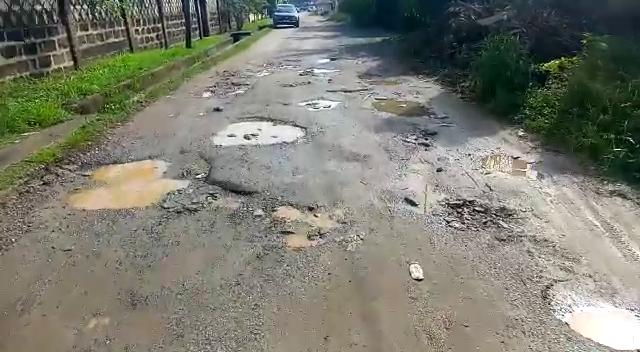pothole: (56, 150, 251, 214), (545, 277, 640, 352), (260, 198, 352, 249), (438, 197, 524, 235), (216, 117, 313, 146), (473, 149, 548, 182), (371, 98, 434, 118), (291, 98, 338, 110), (325, 86, 376, 94), (303, 66, 338, 74)
